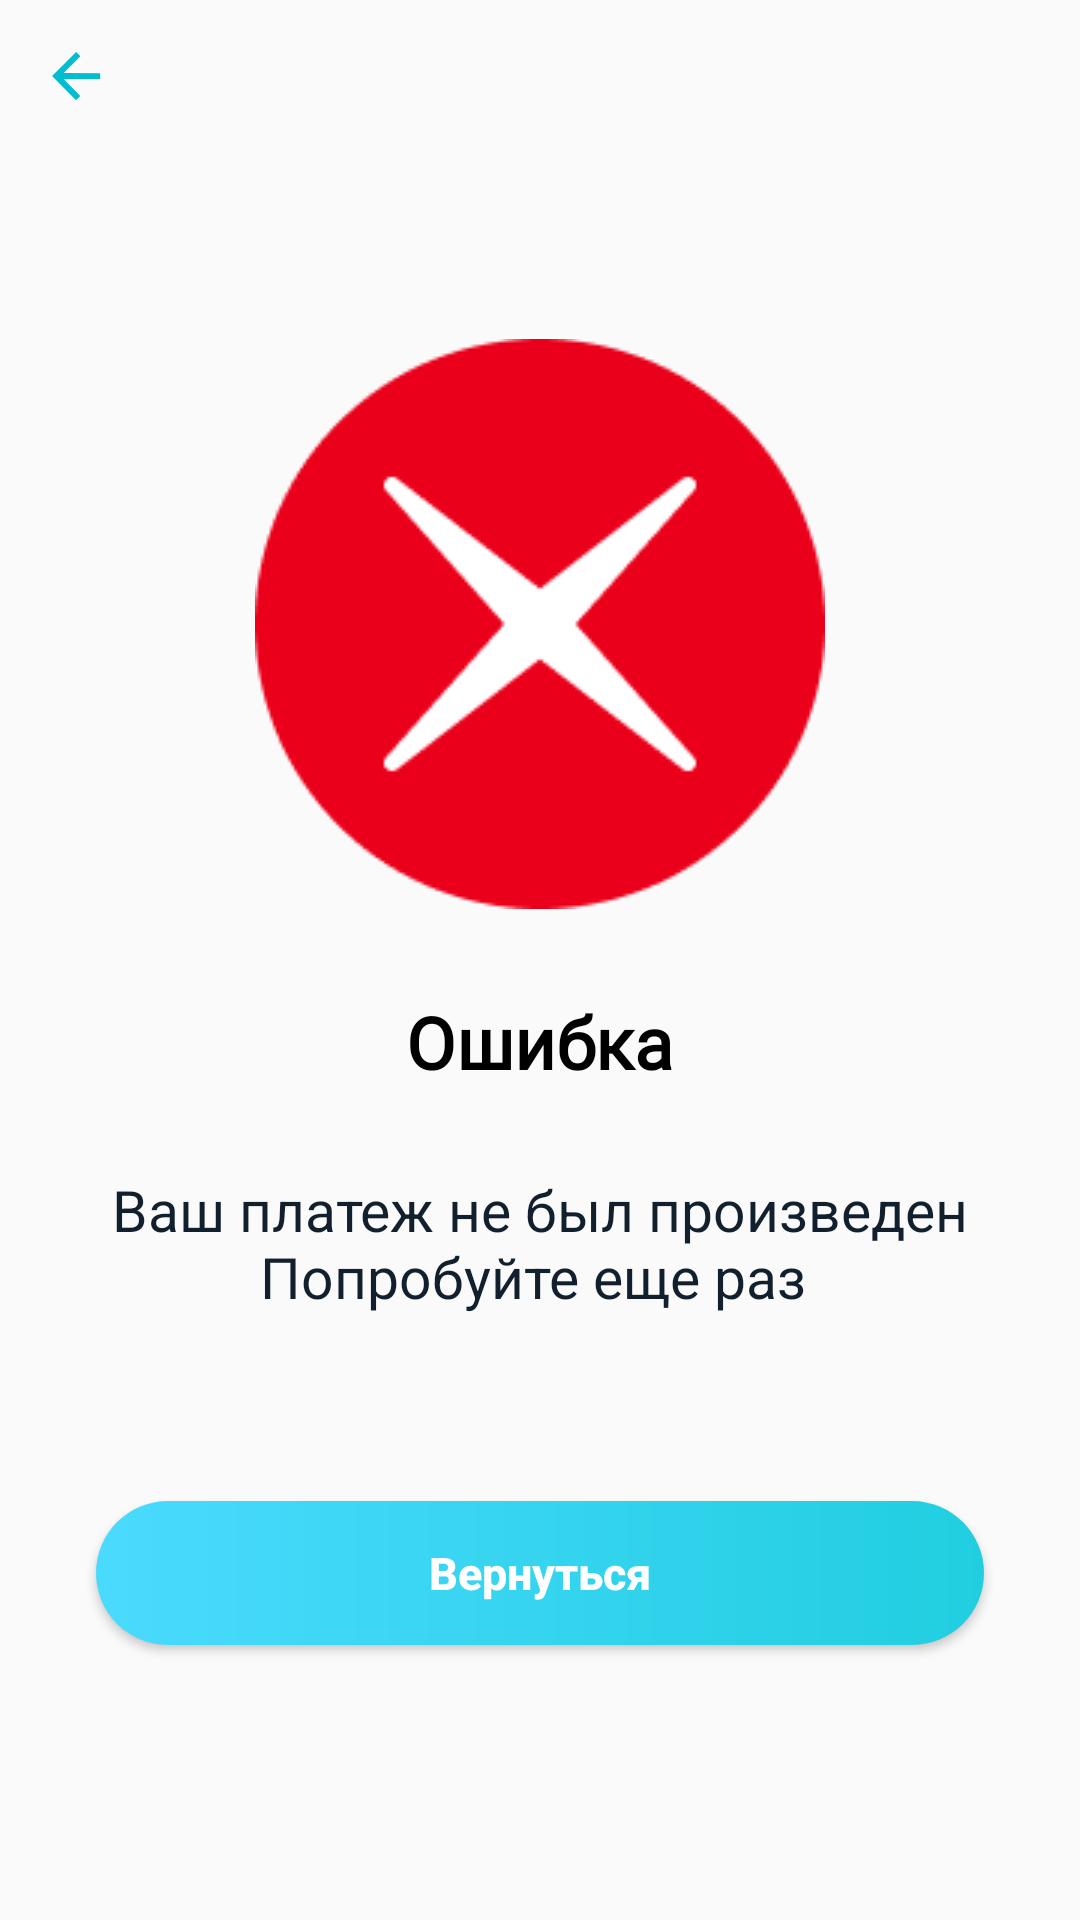

Screen size 1080 × 1920. Icon name, then its box in pixels as (x1, y1, x2, y2):
arrow back: (52, 52, 101, 100)
